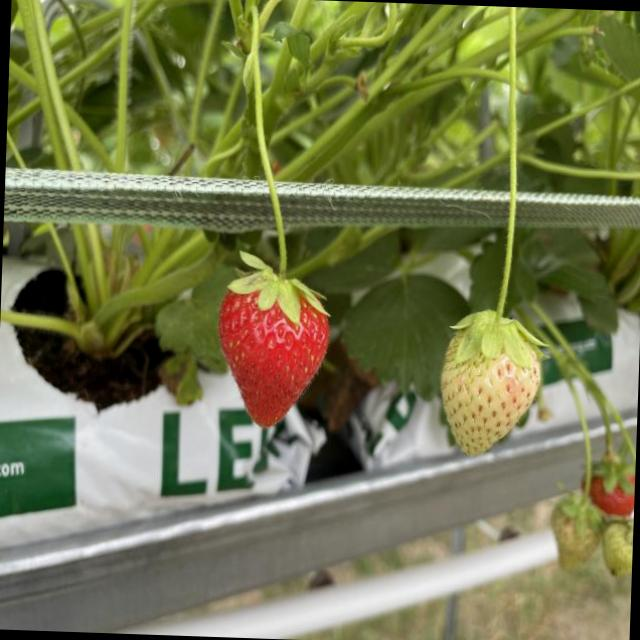stem: (450, 6, 545, 366), (229, 0, 326, 325)
strawberryNR: (440, 336, 537, 453)
strawberryR: (220, 292, 329, 425)
